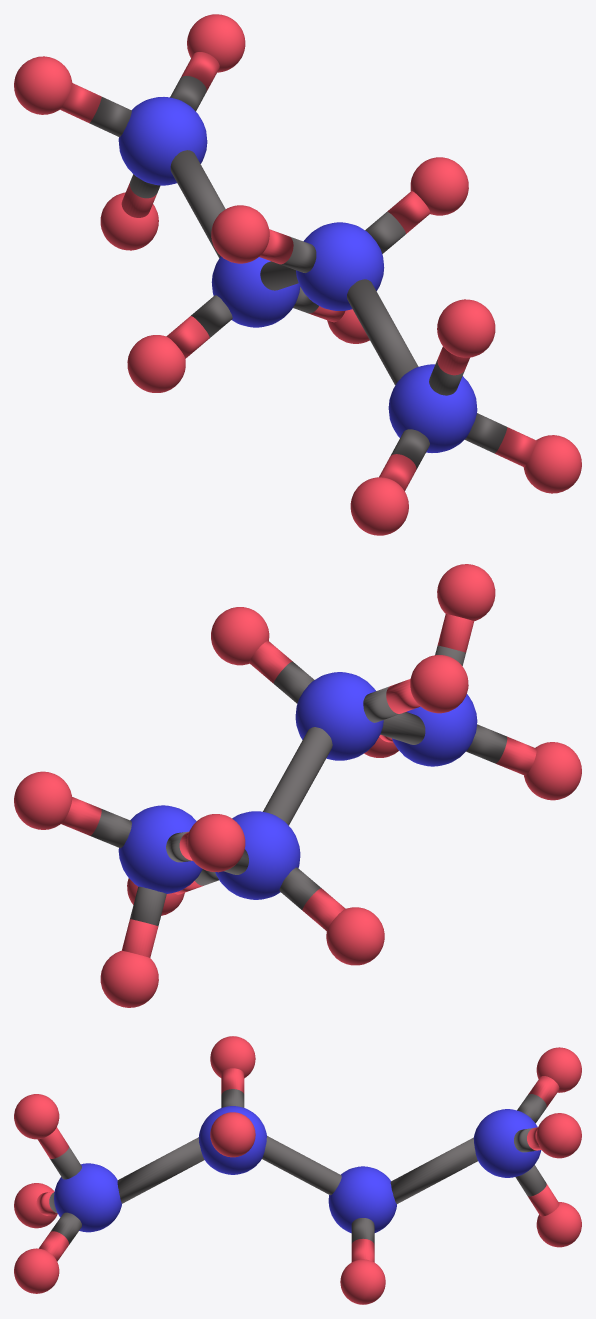
File: nbutan.gltf
3 views of the same model, one above another, from view 1: azimuth 30°, elevation 25°; view 2: azimuth 150°, elevation 25°; view 3: azimuth 270°, elevation 25° (orthographic). The views are drawn at different scales.
Visible parts, largest first — view 1: Cylinder.032, Cylinder.016, Cylinder.007, Cylinder.023, Cylinder.012, Cylinder.004, Cylinder.006, Cylinder.015, Cylinder.022, Cylinder.029, Cylinder.010, Cylinder.019 (+21 smaller); view 2: Cylinder.016, Cylinder.032, Cylinder.023, Cylinder.007, Cylinder.003, Cylinder.015, Cylinder.029, Cylinder.035, Cylinder.022, Cylinder.031, Cylinder.006, Cylinder.019 (+15 smaller); view 3: Cylinder.007, Cylinder.023, Cylinder.032, Cylinder.037, Cylinder.012, Cylinder.016, Cylinder.003, Cylinder.026, Cylinder.019, Cylinder.006, Cylinder.010, Cylinder.035 (+16 smaller).
Boxes of the visible parts, x1,y1,x2,y2 form: Cylinder.032: (118,97,207,185); Cylinder.016: (296,222,384,310); Cylinder.007: (388,364,477,452); Cylinder.023: (211,256,300,327); Cylinder.012: (347,279,418,385); Cylinder.004: (350,477,408,535); Cylinder.006: (437,299,495,357); Cylinder.015: (211,205,269,263); Cylinder.022: (127,335,185,392); Cylinder.029: (14,56,72,114); Cylinder.010: (523,435,581,493); Cylinder.019: (410,157,468,215); Cylinder.016: (295,672,383,760); Cylinder.032: (118,805,202,893); Cylinder.023: (215,811,300,899); Cylinder.007: (392,694,477,766); Cylinder.003: (263,727,332,825); Cylinder.015: (410,655,468,713); Cylinder.029: (187,814,245,872); Cylinder.035: (14,771,72,829); Cylinder.022: (326,907,384,965); Cylinder.031: (100,950,158,1007); Cylinder.006: (437,564,495,621); Cylinder.019: (211,607,269,665); Cylinder.007: (54,1163,121,1232); Cylinder.023: (328,1166,396,1233); Cylinder.032: (473,1109,541,1177); Cylinder.037: (390,1137,477,1203); Cylinder.012: (117,1137,204,1203); Cylinder.016: (198,1106,266,1174); Cylinder.003: (262,1136,341,1195); Cylinder.026: (340,1259,385,1304); Cylinder.019: (210,1112,255,1157); Cylinder.006: (14,1094,59,1139); Cylinder.010: (14,1248,59,1293); Cylinder.035: (536,1113,581,1158).
Bounding box in the file's own units: 6.49 × 6.06 × 16.46.
